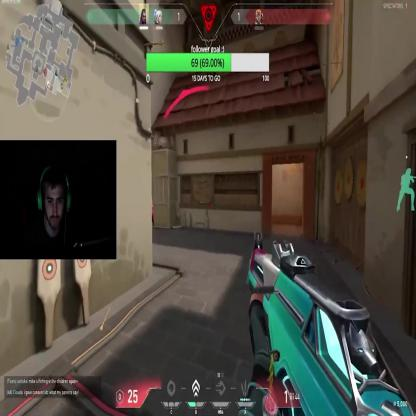enemy: (147, 199, 156, 232)
enemy_head: (149, 198, 153, 205)
